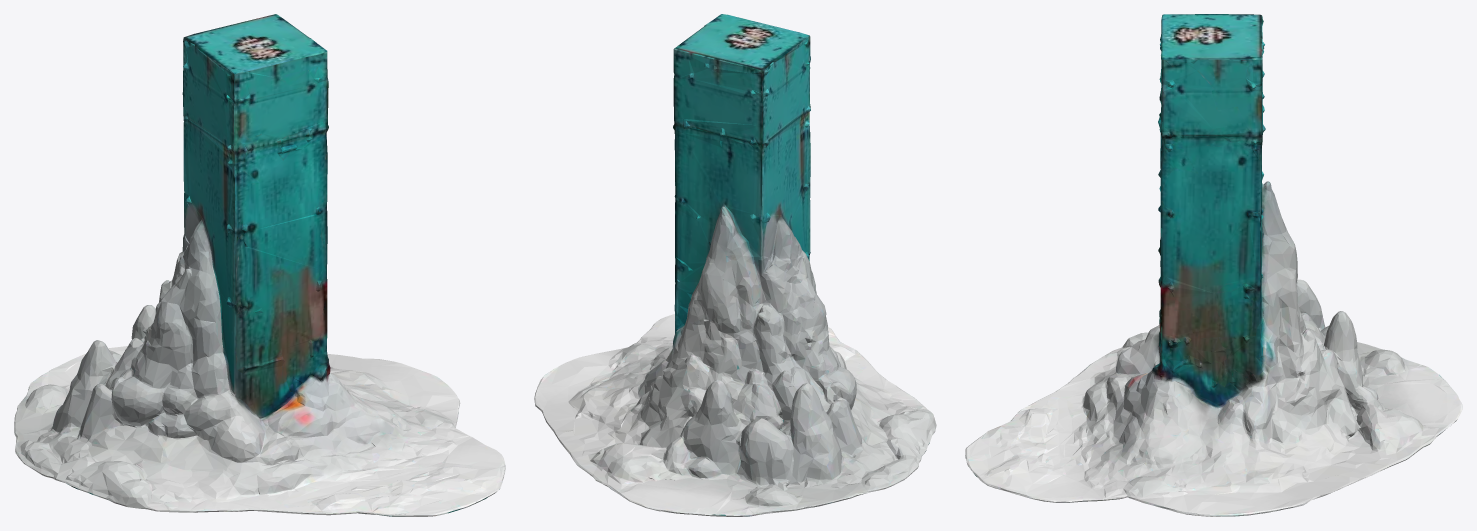
The model's file is weathered-monolith-pillar-generated-2026-04-18t22-01-36-007z-generated-2026-04-19T00-35-29-989Z.low.glb.
3 views of the same model, side by side, from view 1: azimuth 30°, elevation 25°; view 2: azimuth 150°, elevation 25°; view 3: azimuth 270°, elevation 25° (orthographic). The views are drawn at different scales.
Visible parts, largest first — view 1: temp_mesh.ply; view 2: temp_mesh.ply; view 3: temp_mesh.ply.
Part boxes in pixels (left/top/right/bottom): temp_mesh.ply: left=14, top=14, right=505, bottom=516; temp_mesh.ply: left=534, top=14, right=936, bottom=516; temp_mesh.ply: left=965, top=14, right=1462, bottom=516.
Bounding box in the file's own units: 1.79 × 1.7 × 1.97.
Materials: 1 (1 with a texture image).
